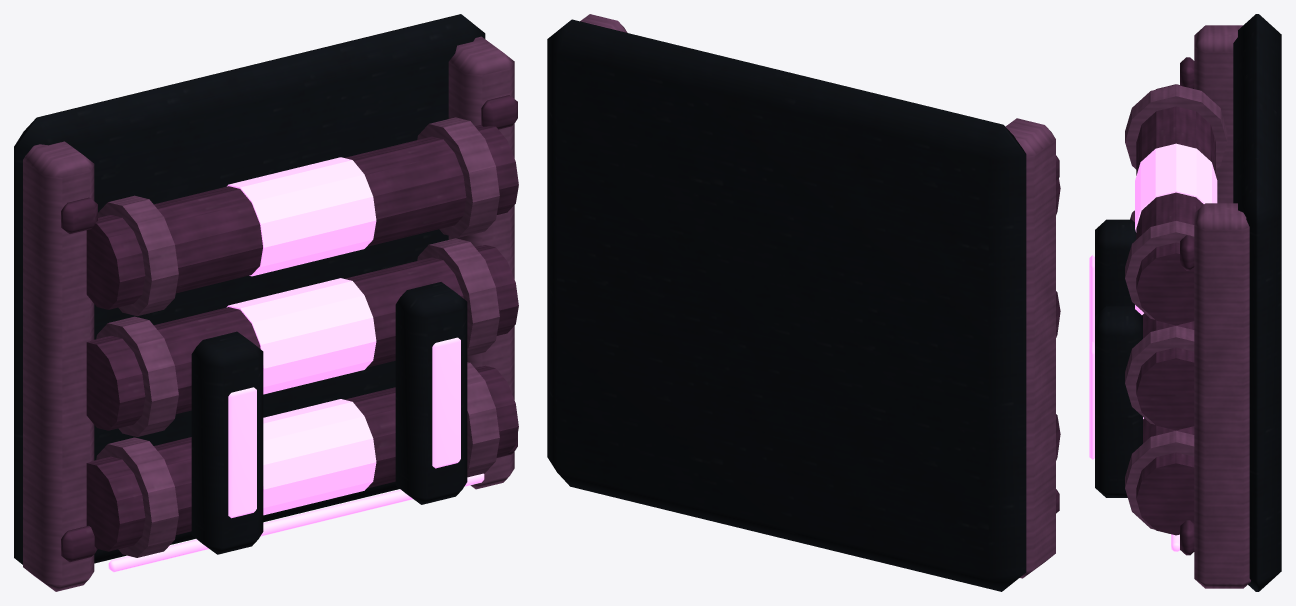
The model's file is biolab_fixture.glb.
3 views of the same model, side by side, from view 1: azimuth 30°, elevation 25°; view 2: azimuth 150°, elevation 25°; view 3: azimuth 270°, elevation 25° (orthographic). The views are drawn at different scales.
Parts seen in each view (by area): view 1: biolab_fixture - Recessed iron, biolab_fixture - biolab trim, biolab_fixture - biolab panels, biolab_fixture - biolab accents; view 2: biolab_fixture - Recessed iron, biolab_fixture - biolab trim; view 3: biolab_fixture - biolab trim, biolab_fixture - Recessed iron, biolab_fixture - biolab panels, biolab_fixture - biolab accents.
Boxes of the visible parts, x1=… form: biolab_fixture - Recessed iron: x1=14, y1=14, x2=485, y2=564; biolab_fixture - biolab trim: x1=23, y1=36, x2=514, y2=591; biolab_fixture - biolab panels: x1=61, y1=95, x2=518, y2=562; biolab_fixture - biolab accents: x1=108, y1=157, x2=484, y2=572; biolab_fixture - Recessed iron: x1=547, y1=19, x2=1026, y2=591; biolab_fixture - biolab trim: x1=580, y1=14, x2=1055, y2=578; biolab_fixture - biolab trim: x1=1125, y1=25, x2=1250, y2=588; biolab_fixture - Recessed iron: x1=1095, y1=14, x2=1281, y2=591; biolab_fixture - biolab panels: x1=1136, y1=57, x2=1215, y2=555; biolab_fixture - biolab accents: x1=1089, y1=143, x2=1217, y2=551.
Size of the model in its own units: 3.13 by 2.92 by 1.28.
4 materials, 3 textured.
